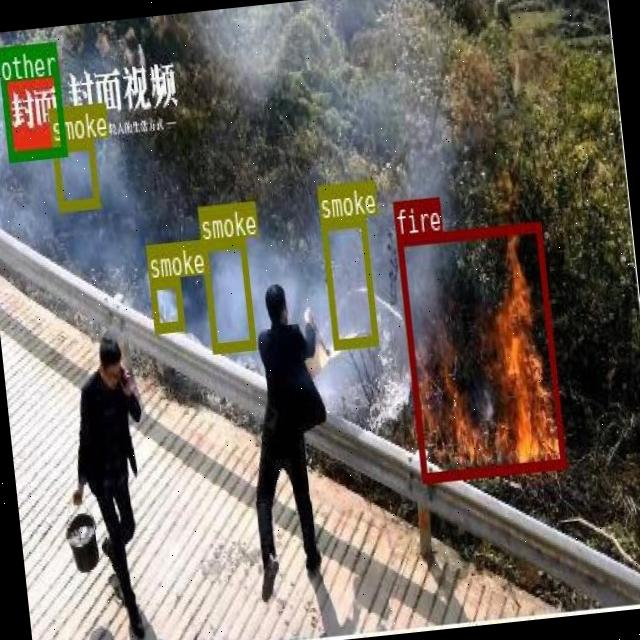fire: (394, 220, 564, 480)
smoke: (319, 214, 376, 348), (200, 236, 254, 352), (51, 137, 99, 210), (149, 274, 183, 330)
